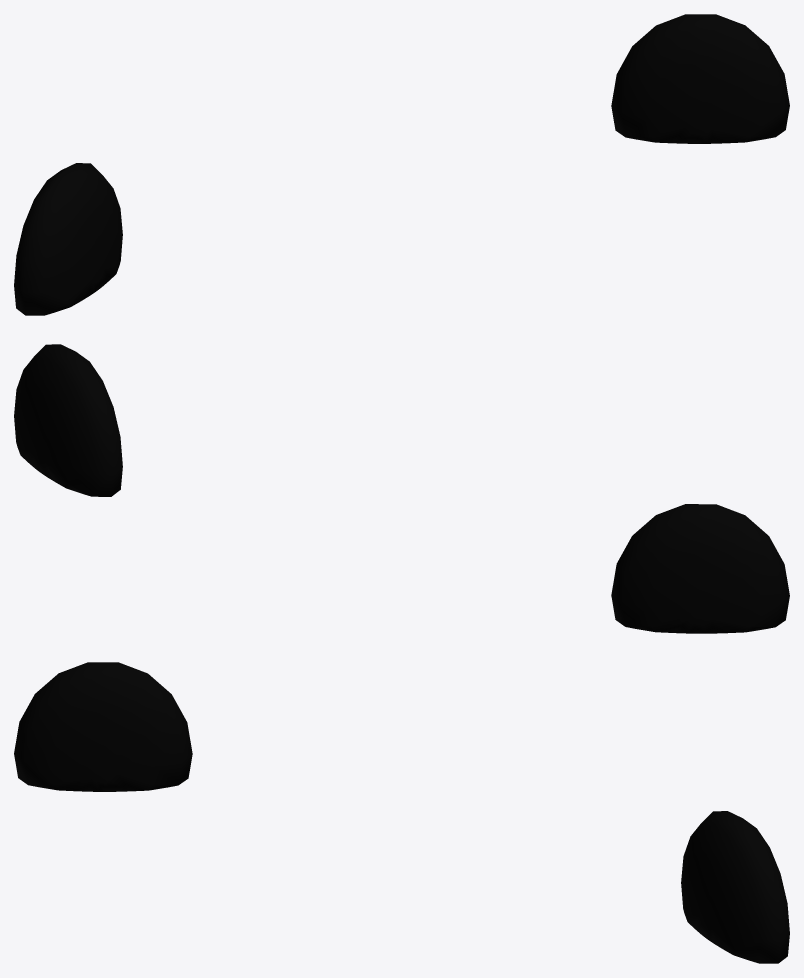
The model's file is Eyes_MM_Open_Poly.fbx.
The picture shows the model from 3 angles, top to bottom: view 1: azimuth 30°, elevation 25°; view 2: azimuth 150°, elevation 25°; view 3: azimuth 330°, elevation 25°; orthographic projection.
Parts seen in each view (by area): view 1: Eyes_Poly; view 2: Eyes_Poly; view 3: Eyes_Poly.
Part boxes in pixels (<box>): Eyes_Poly: <box>14,14,789,315</box>; Eyes_Poly: <box>14,344,789,633</box>; Eyes_Poly: <box>14,662,789,963</box>.
Bounding box in the file's own units: 12.88 × 1.86 × 1.57.
Materials: 1 (1 with a texture image).
